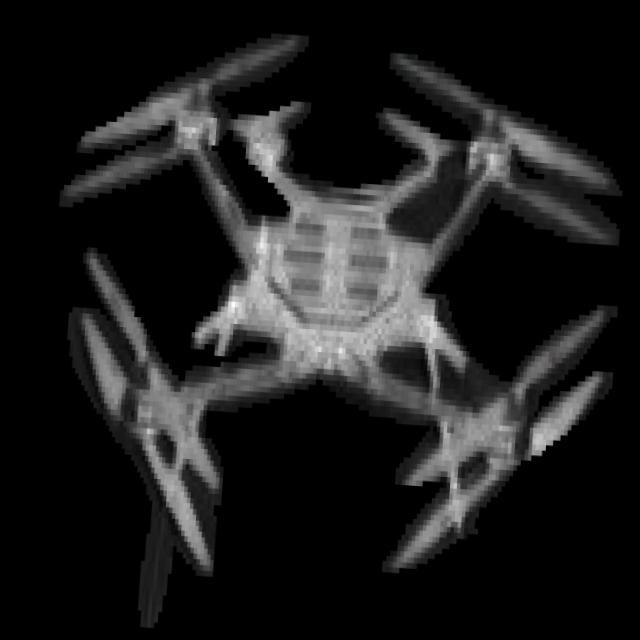drone: (48, 22, 626, 640)
